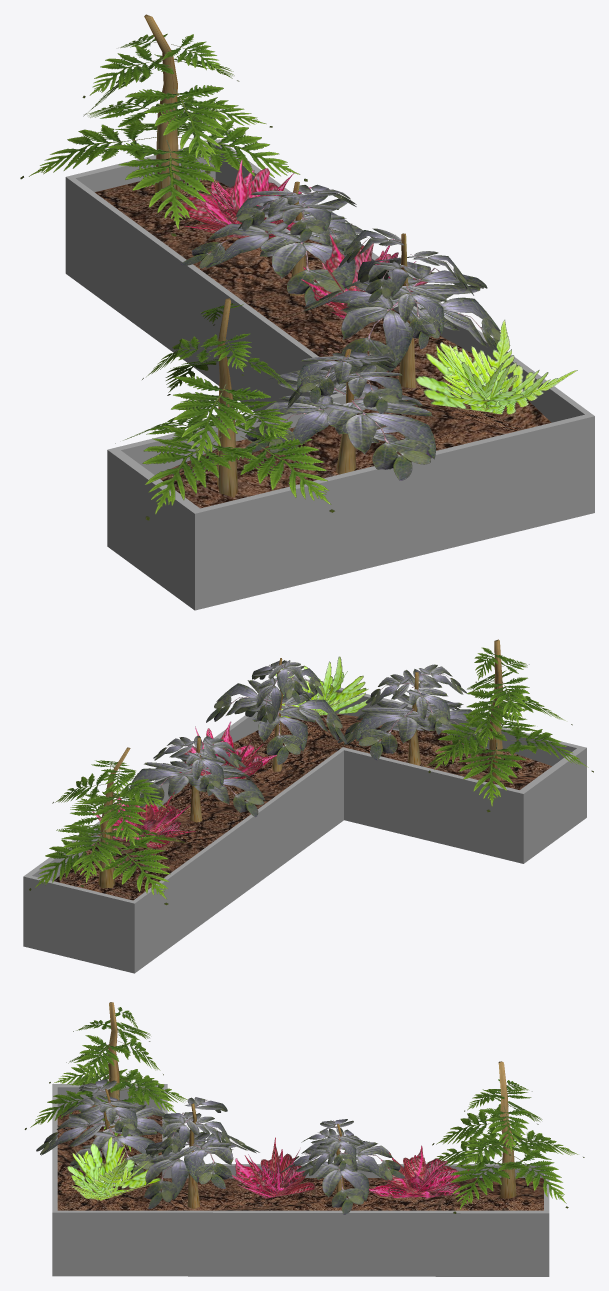
Rendered from Model_Plant_Potted_L_02.fbx.
The picture shows the model from 3 angles, top to bottom: view 1: azimuth 30°, elevation 25°; view 2: azimuth 150°, elevation 25°; view 3: azimuth 270°, elevation 25°; orthographic projection. The views are drawn at different scales.
Visible parts, largest first — view 1: Plant_Potted_L_02; view 2: Plant_Potted_L_02; view 3: Plant_Potted_L_02.
Part boxes in pixels (box(x1,y1,x2,y2)): Plant_Potted_L_02: box(20, 14, 594, 610); Plant_Potted_L_02: box(23, 639, 593, 973); Plant_Potted_L_02: box(24, 1002, 584, 1276).
Size of the model in its own units: 330 by 172 by 504.
